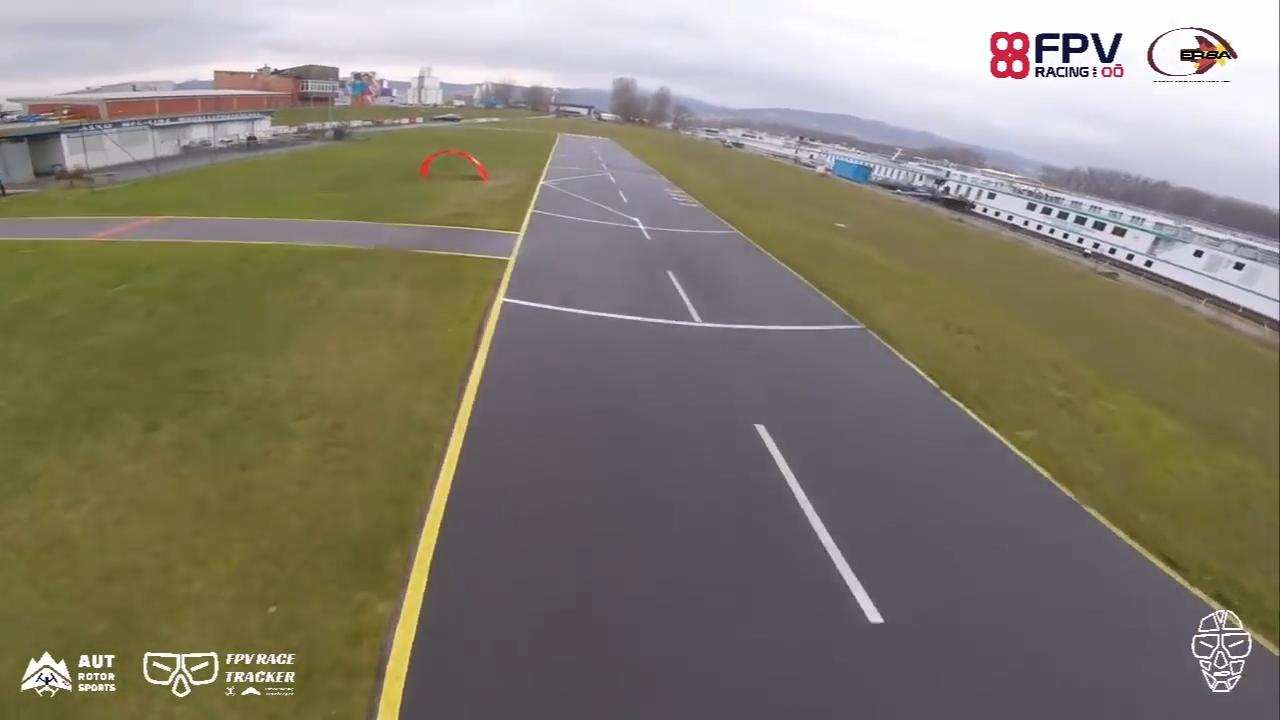gate: (418, 147, 489, 189)
